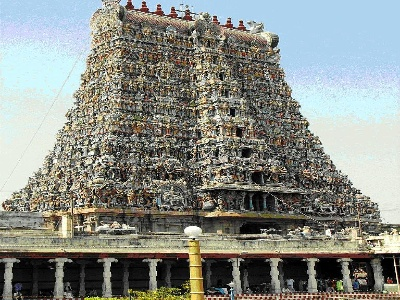gopura: (23, 4, 377, 228)
